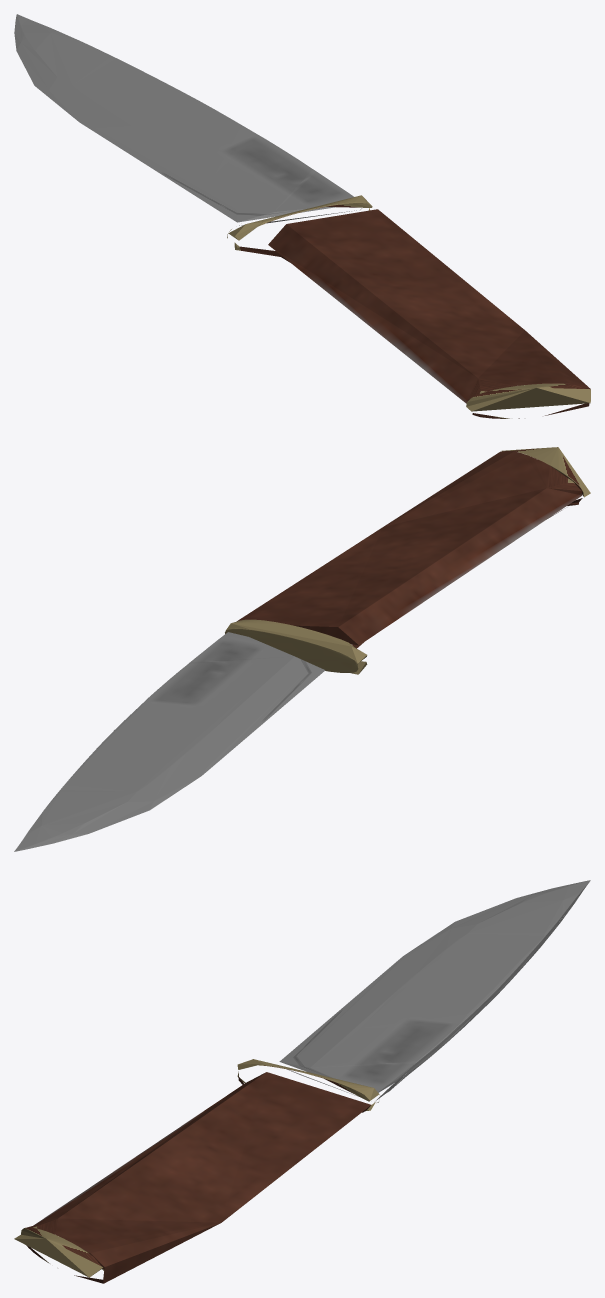
File: kitchenware_knife_w01.glb
The picture shows the model from 3 angles, top to bottom: view 1: azimuth 30°, elevation 25°; view 2: azimuth 150°, elevation 25°; view 3: azimuth 330°, elevation 25°; orthographic projection.
Visible parts, largest first — view 1: geometry_0; view 2: geometry_0; view 3: geometry_0.
Boxes of the visible parts, bbox=[...] form: geometry_0: bbox=[14, 14, 590, 418]; geometry_0: bbox=[14, 447, 590, 851]; geometry_0: bbox=[14, 880, 590, 1283].
Size of the model in its own units: 0.0625 by 0.0173 by 0.42.
Materials: 1 (1 with a texture image).
